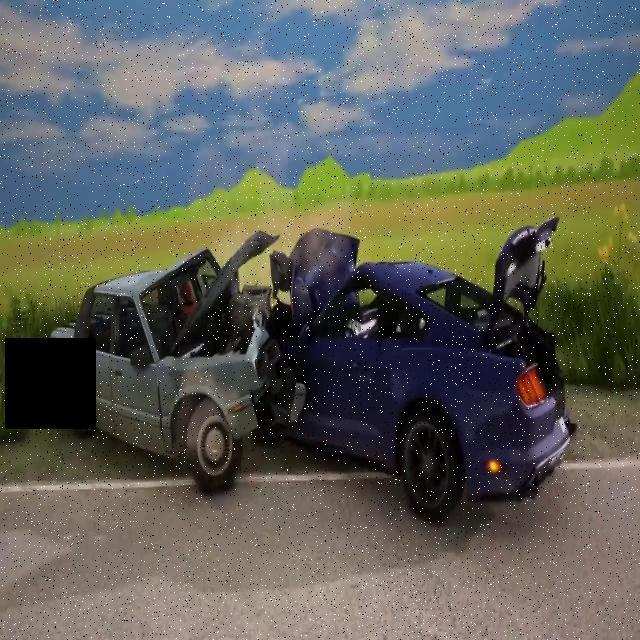moderate: (45, 218, 579, 530)
